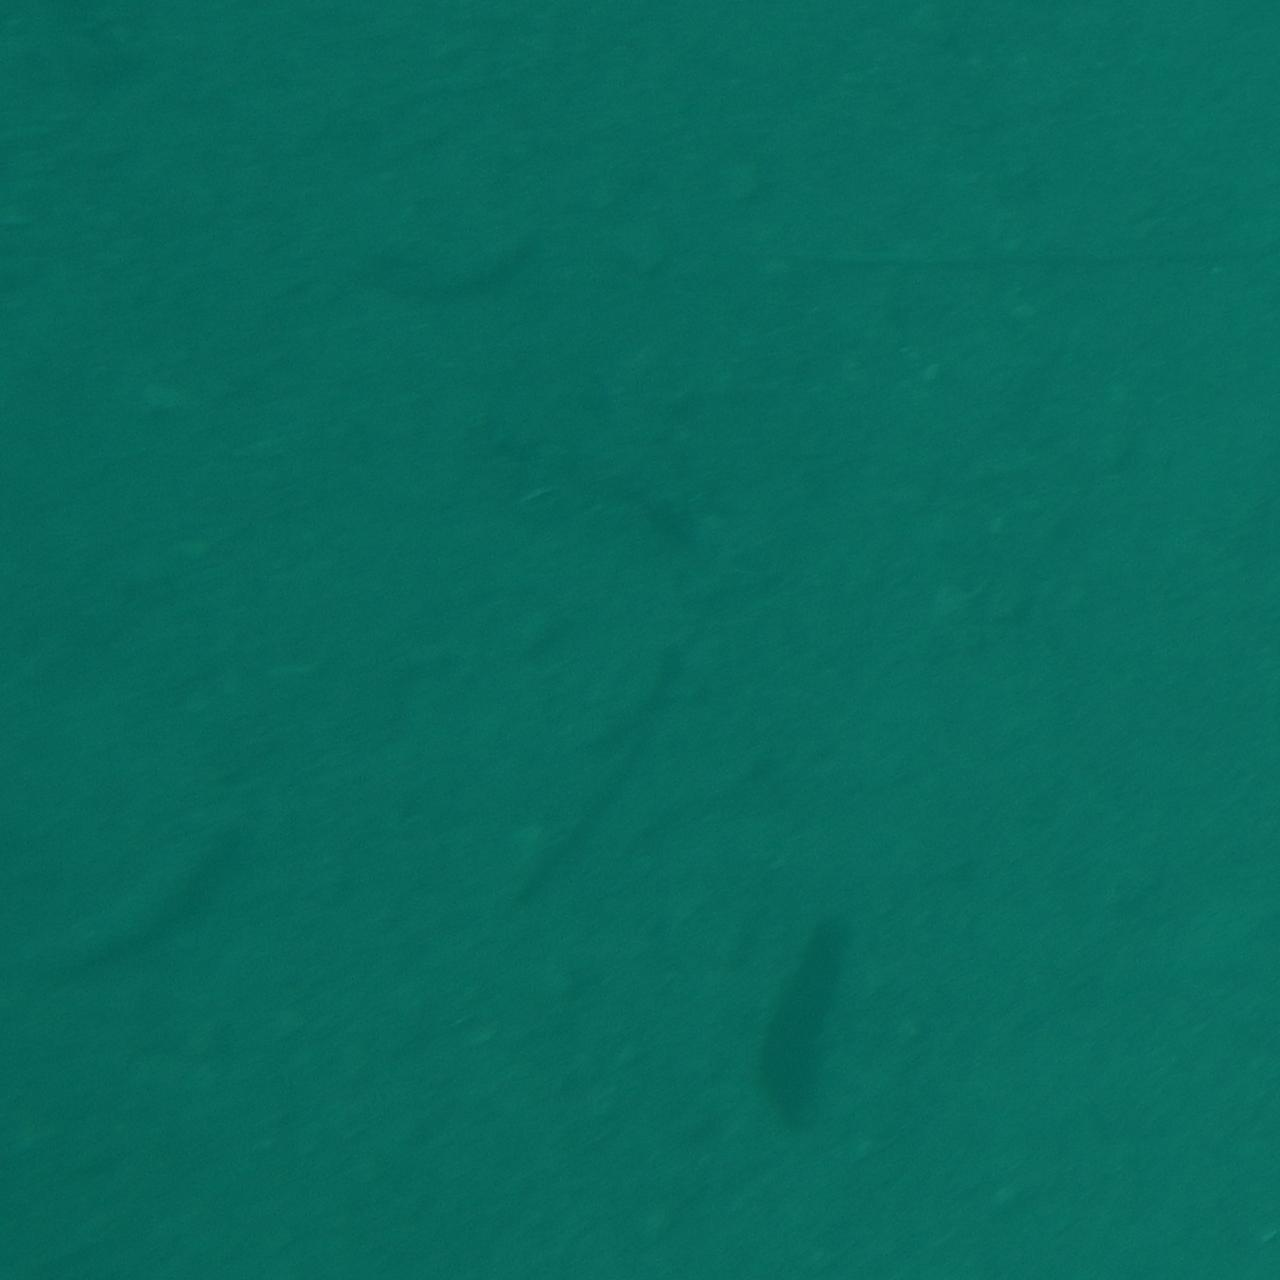Holothuria tubulosa: (2, 790, 280, 1006), (515, 629, 713, 915), (745, 921, 869, 1151), (335, 210, 561, 279)
